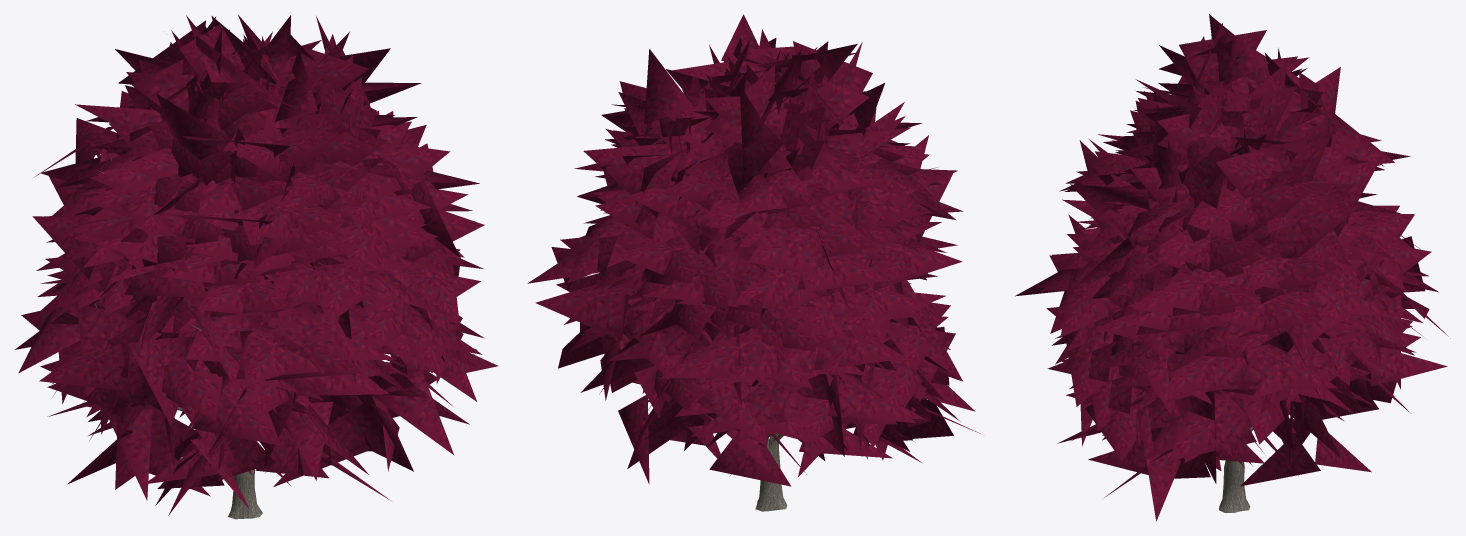
File: Fraxinus_Americana_Autumn_Adult.glb
The picture shows the model from 3 angles, left to right: view 1: azimuth 30°, elevation 25°; view 2: azimuth 150°, elevation 25°; view 3: azimuth 270°, elevation 25°; orthographic projection. The views are drawn at different scales.
Parts seen in each view (by area): view 1: Fraxinus_Americana_Autumn_Adult__LOD3; view 2: Fraxinus_Americana_Autumn_Adult__LOD3; view 3: Fraxinus_Americana_Autumn_Adult__LOD3.
Part boxes in pixels (bbox=[...]): Fraxinus_Americana_Autumn_Adult__LOD3: bbox=[14, 15, 498, 519]; Fraxinus_Americana_Autumn_Adult__LOD3: bbox=[527, 14, 980, 511]; Fraxinus_Americana_Autumn_Adult__LOD3: bbox=[1015, 14, 1450, 521].
Size of the model in its own units: 23.16 by 25.78 by 22.22.
Materials: 2 (2 with a texture image).
